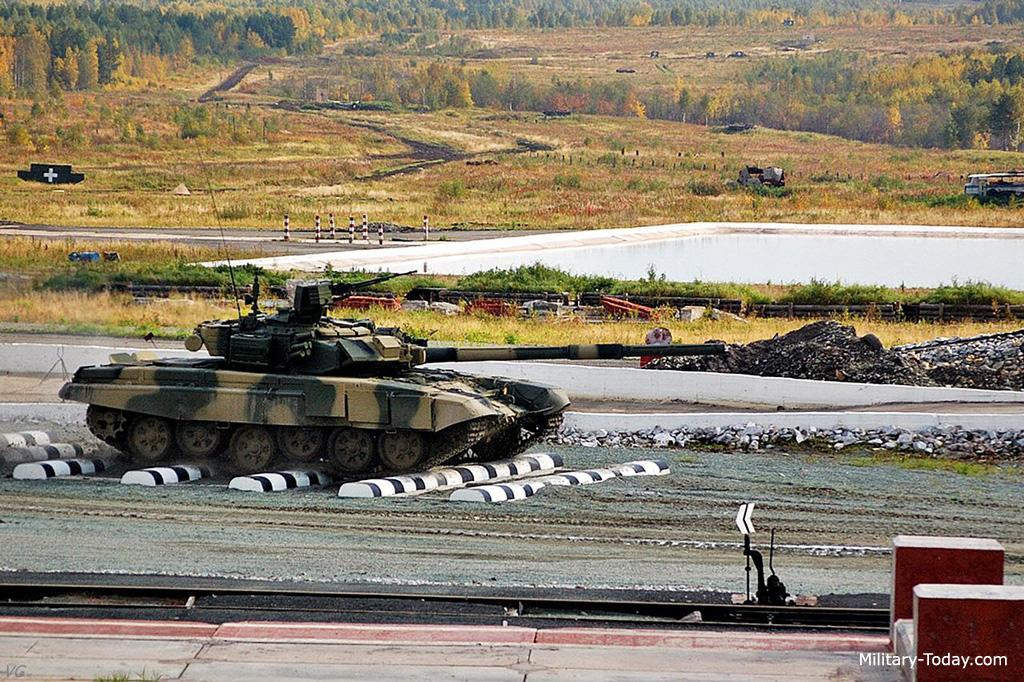tank: (57, 280, 726, 482)
